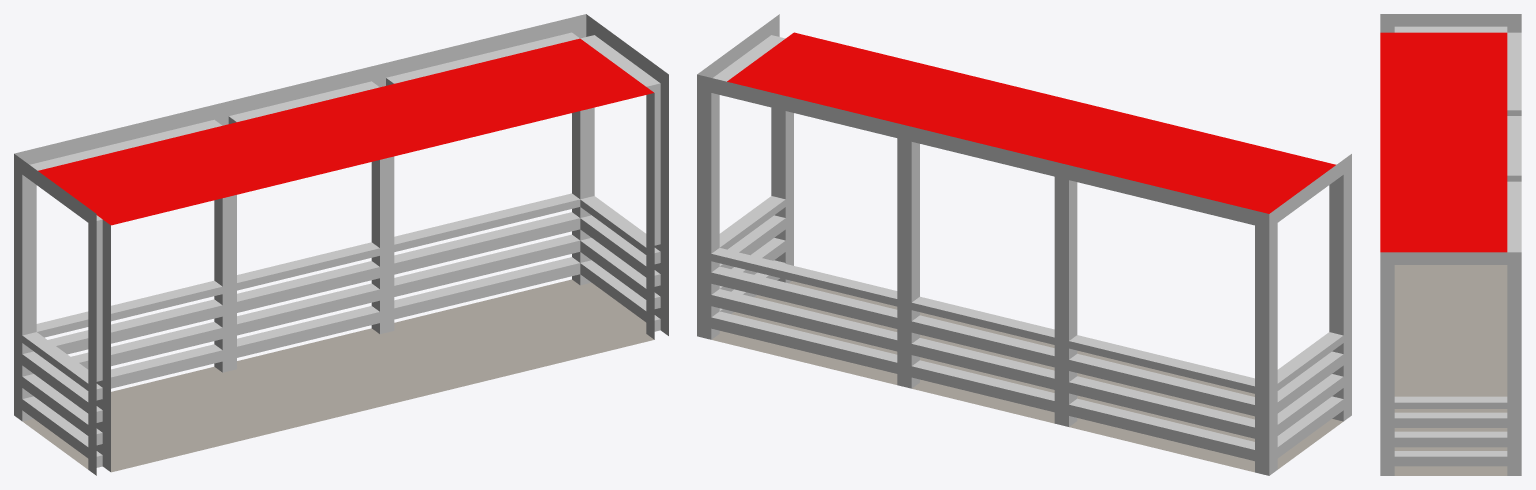
The model's file is TerraceWithNextLevelStorey.fbx.
The picture shows the model from 3 angles, left to right: view 1: azimuth 30°, elevation 25°; view 2: azimuth 150°, elevation 25°; view 3: azimuth 270°, elevation 25°; orthographic projection. The views are drawn at different scales.
Parts seen in each view (by area): view 1: TerraceWithNextLevelStorey_LOD0; view 2: TerraceWithNextLevelStorey_LOD0; view 3: TerraceWithNextLevelStorey_LOD0.
Boxes of the visible parts, x1,y1,x2,y2 form: TerraceWithNextLevelStorey_LOD0: (14,14,668,475); TerraceWithNextLevelStorey_LOD0: (697,14,1351,475); TerraceWithNextLevelStorey_LOD0: (1380,14,1521,475).
Size of what is drawn, in the model's own units: 1600 by 700 by 400.
